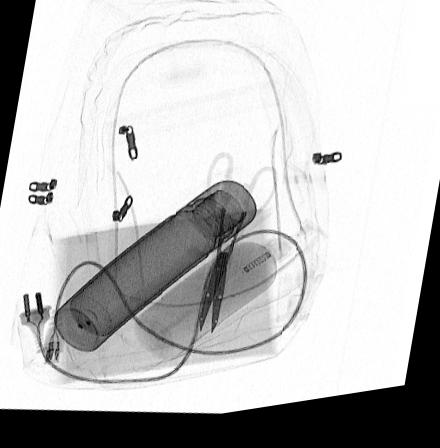Scissors: (199, 159, 277, 339)
